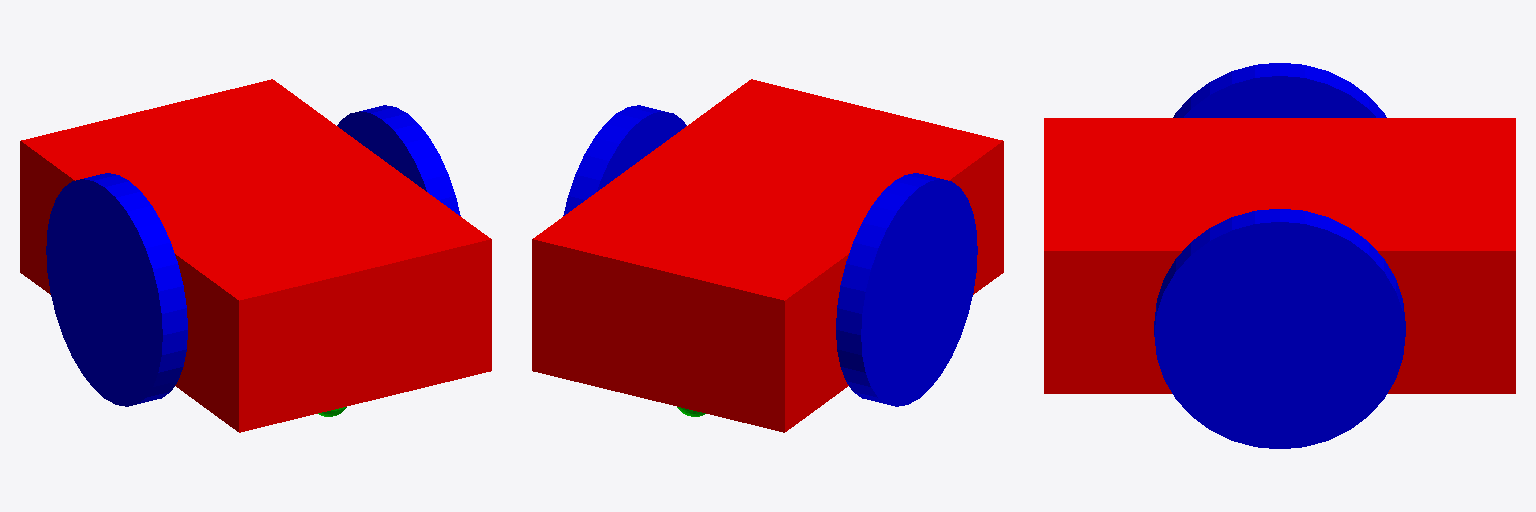
robot.urdf — bot:
<?xml version="1.0" ?>
<robot name="bot" xmlns:xacro="http://www.ros.org/wiki/xacro">

    <link name="base_footprint"/>

    <link name="base_link">
        <visual>
            <origin xyz="0.0 0.0 0.0" rpy="0.0 0.0 0.0"/>
            <geometry>
                <box size="0.20 0.30 0.10"/>
            </geometry>
            <material name="red">
                <color rgba="1.0 0.0 0.0 1.0"/>
            </material>
        </visual>
    </link>

    <joint name="base_joint" type="fixed">
        <origin xyz="0.0 0.0 0.08" rpy="0.0 0.0 0.0"/>
        <parent link="base_footprint"/>
        <child link="base_link"/>
    </joint>

    <link name="right_wheel_link">
        <visual>
            <origin xyz="0.0 0.0 0.0" rpy="0.0 0.0 0.0"/>
            <geometry>
                <cylinder radius="0.08" length="0.02"/>
            </geometry>
            <material name="blue">
                <color rgba="0.0 0.0 1.0 1.0"/>
            </material>
        </visual>
    </link>

    <joint name="right_wheel_joint" type="continuous">
        <origin xyz="-0.11 0.0 0.0" rpy="0.0 1.57 0.0"/>
        <parent link="base_link"/>
        <child link="right_wheel_link"/>
        <axis xyz="0.0 0.0 1.0"/>
    </joint>

    <link name="left_wheel_link">
        <visual>
            <origin xyz="0.0 0.0 0.0" rpy="0.0 0.0 0.0"/>
            <geometry>
                <cylinder radius="0.08" length="0.02"/>
            </geometry>
            <material name="blue">
                <color rgba="0.0 0.0 1.0 1.0"/>
            </material>
        </visual>
    </link>

    <joint name="left_wheel_joint" type="continuous">
        <origin xyz="0.11 0.0 0.0" rpy="0.0 1.57 0.0"/>
        <parent link="base_link"/>
        <child link="left_wheel_link"/>
        <axis xyz="0.0 0.0 1.0"/>
    </joint>

    <link name="front_castor_link">
        <visual>
            <origin xyz="0.0 0.0 0.0" rpy="0.0 0.0 0.0"/>
            <geometry>
                <sphere radius="0.015"/>
            </geometry>
            <material name="green">
                <color rgba="0.0 1.0 0.0 1.0"/>
            </material>
        </visual>
    </link>

    <joint name="front_castor_joint" type="fixed">
        <origin xyz="0.0 -0.1 -0.065" rpy="0.0 0.0 0.0"/>
        <parent link="base_link"/>
        <child link="front_castor_link"/>
    </joint>

    <link name="rear_castor_link">
        <visual>
            <origin xyz="0.0 0.0 0.0" rpy="0.0 0.0 0.0"/>
            <geometry>
                <sphere radius="0.015"/>
            </geometry>
            <material name="green">
                <color rgba="0.0 1.0 0.0 1.0"/>
            </material>
        </visual>
    </link>

    <joint name="rear_castor_joint" type="fixed">
        <origin xyz="0.0 0.1 -0.065" rpy="0.0 0.0 0.0"/>
        <parent link="base_link"/>
        <child link="rear_castor_link"/>
    </joint>

</robot>

--- What the picture shows (computed from the rendered views, not written in the file) ---
The picture shows the robot from 3 angles, left to right: view 1: azimuth 30°, elevation 25°; view 2: azimuth 150°, elevation 25°; view 3: azimuth 270°, elevation 25°; orthographic projection.
Model bot with 6 links and 5 joints (2 continuous, 3 fixed), rooted at base_footprint, posed all joints at 0.
Links seen in each view (by area): view 1: base_link, right_wheel_link, left_wheel_link; view 2: base_link, right_wheel_link, left_wheel_link; view 3: base_link, left_wheel_link, right_wheel_link.
Link boxes in pixels (x1,y1,x2,y2): base_link: [20, 79, 491, 432]; right_wheel_link: [46, 173, 187, 406]; left_wheel_link: [337, 105, 460, 215]; base_link: [532, 79, 1003, 432]; right_wheel_link: [836, 173, 977, 406]; left_wheel_link: [563, 105, 686, 215]; base_link: [1044, 118, 1515, 393]; left_wheel_link: [1154, 209, 1405, 448]; right_wheel_link: [1173, 63, 1386, 117].
Size in the robot's own frame: 0.2401 by 0.3 by 0.16 metres.
Geometry: primitives only (box / cylinder / sphere), no mesh files.
